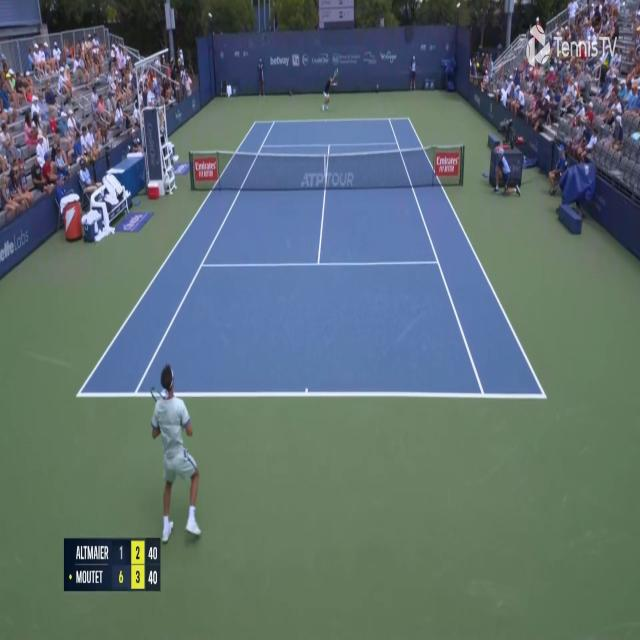tennis-player: (143, 290, 203, 543), (321, 64, 339, 112)
